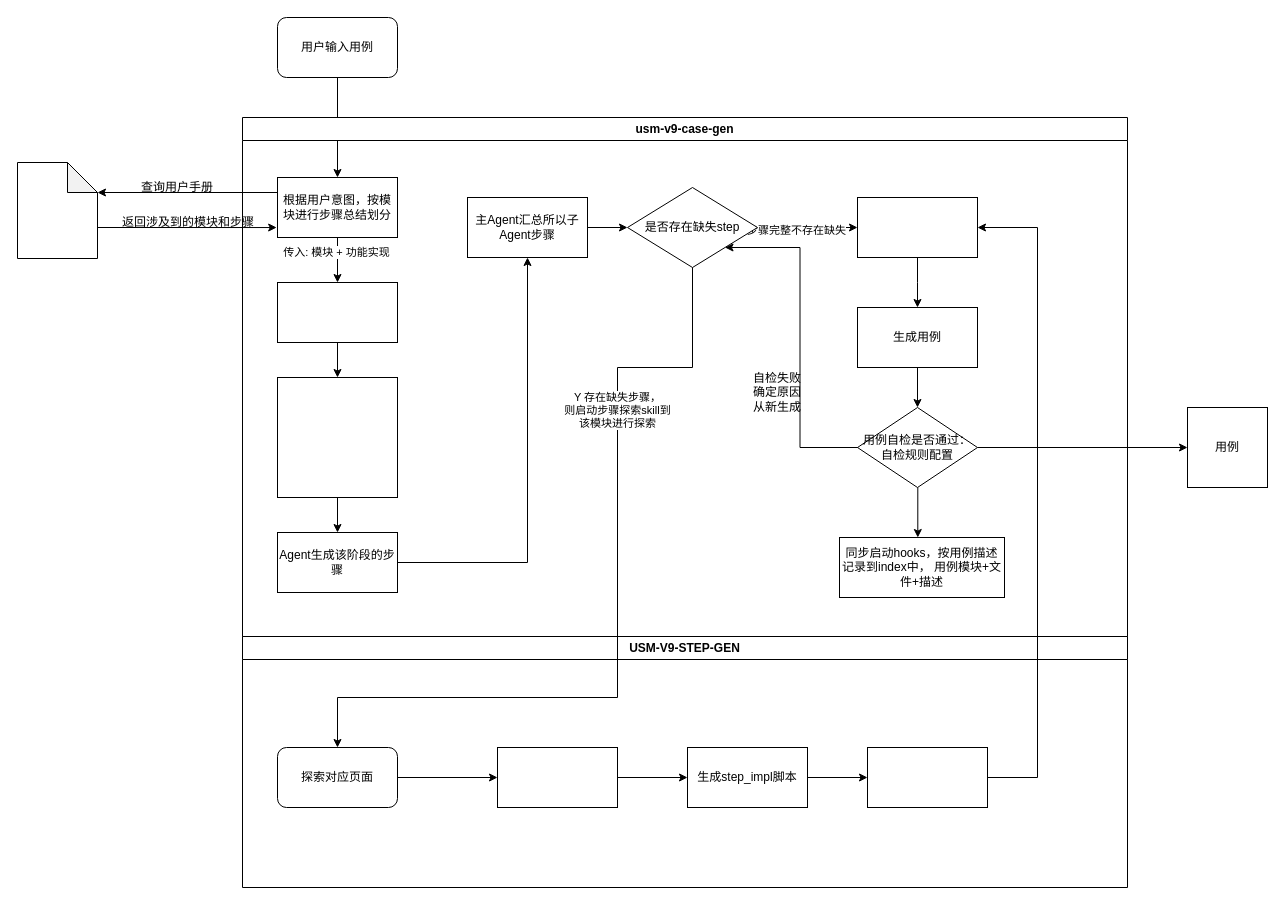
Image size: 1285x905. Some labels were removed from this diagram. The shapes that lost their labels are listed below. From the top down, each one's centre as x and y in pixels, then its label:
the point at 57,210: 用户手册
the point at 917,227: 进行参数生成： 上下文的参数应该一致
the point at 337,312: 按模块启动Agent进行步骤探索
the point at 337,437: 1. 根据意图匹配已有用例作为参考 2. 更具对应模下下的功能脚本描述进行组合
the point at 557,777: 梳理步骤&参数
the point at 927,777: 调用脚本方法进行验证
